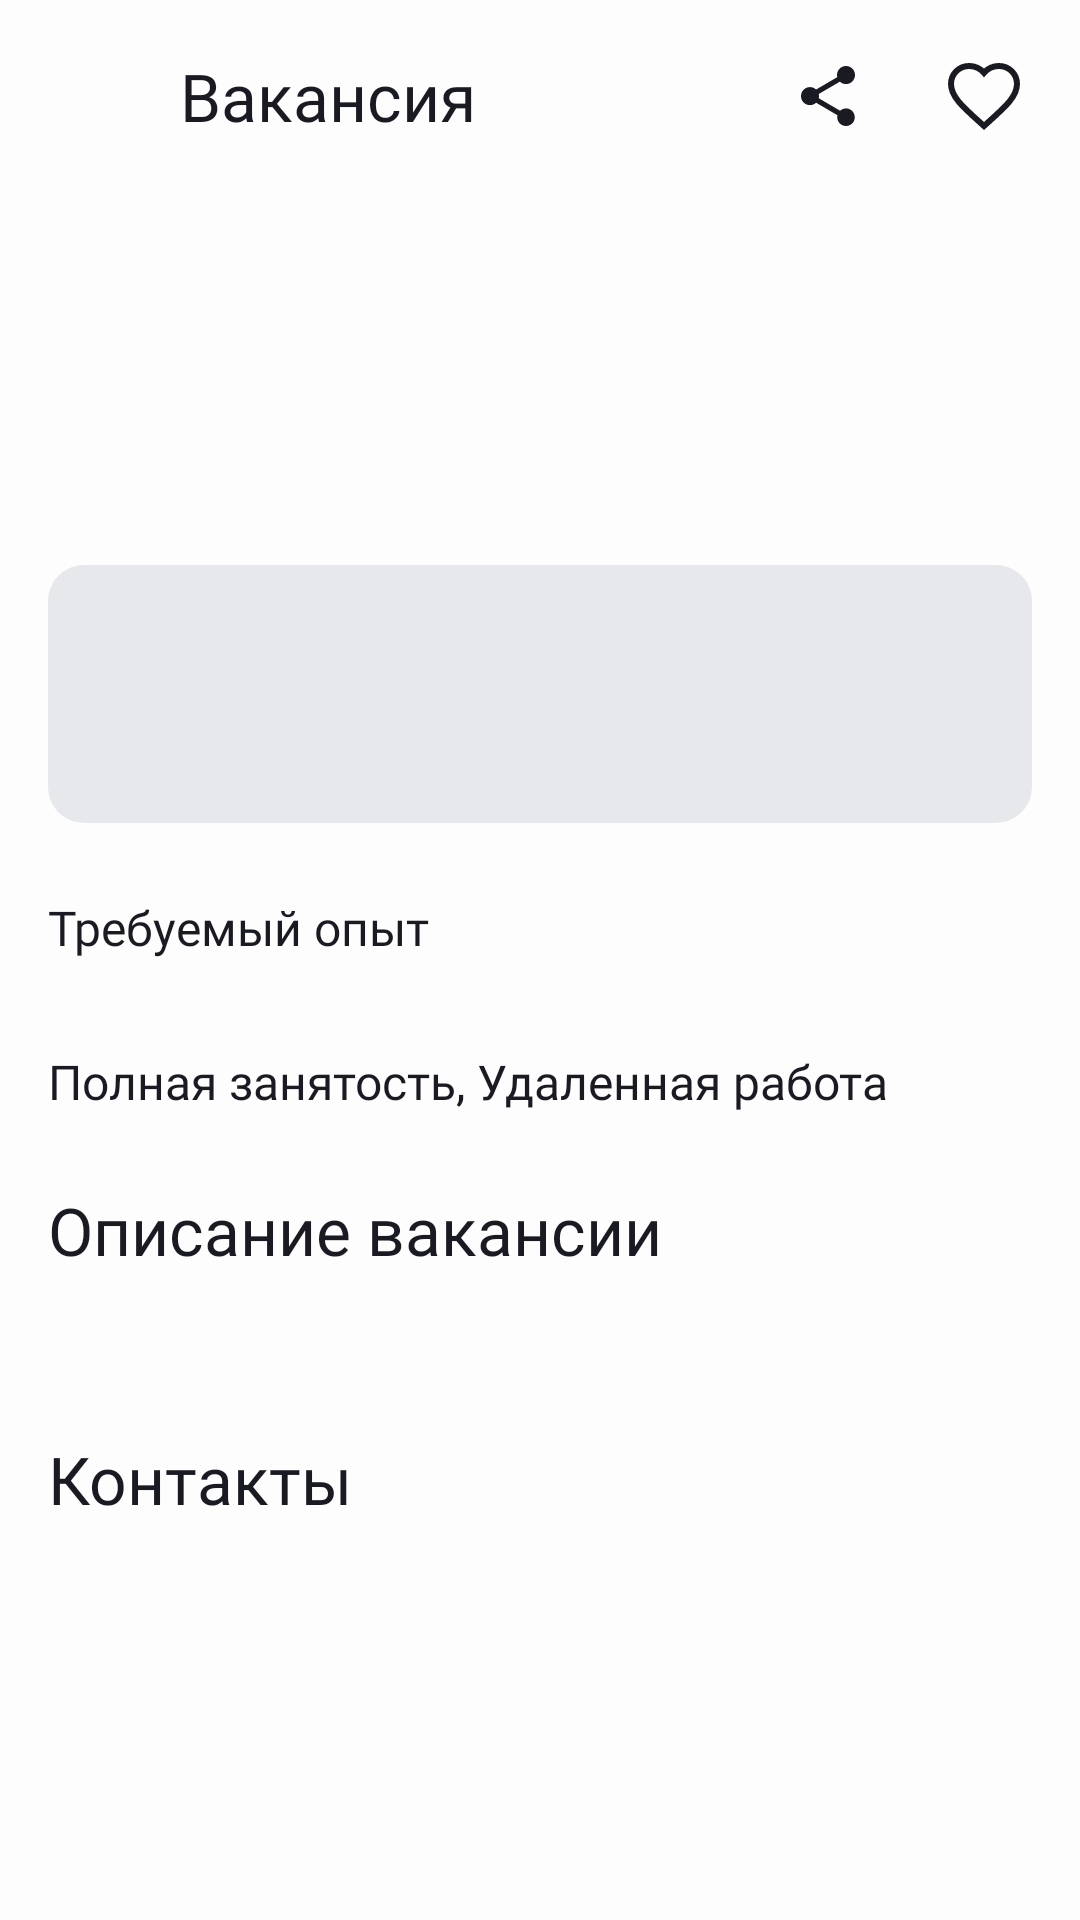

Icon bounding boxes for this 1080w x 1920h phone screenshot, format bbox=[x1, y1, x2, y2]:
favorites off: bbox=[948, 63, 1020, 130]
sharing: bbox=[801, 66, 855, 126]
